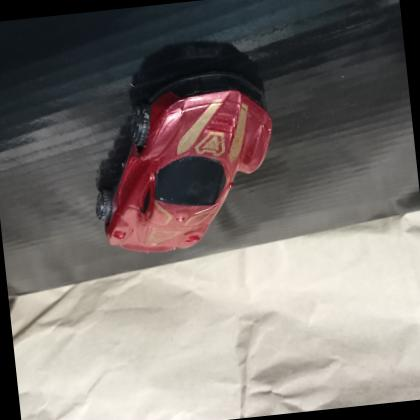Car: (78, 58, 288, 262)
